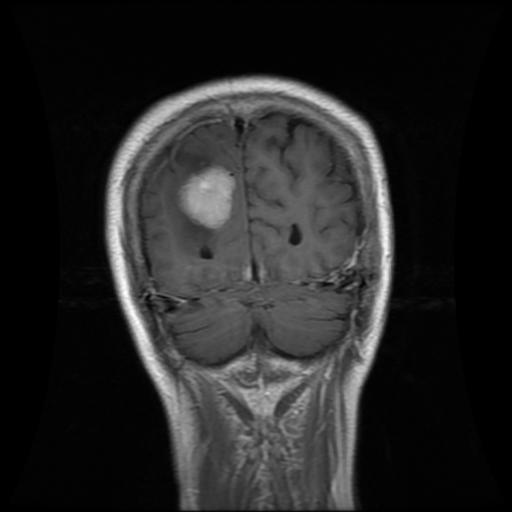Menigiomia_tumour: (178, 165, 237, 227)
